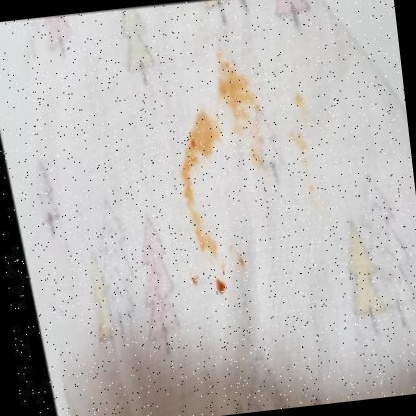kimchi: (159, 161, 221, 259), (212, 55, 268, 141), (171, 108, 218, 161), (288, 128, 321, 194), (211, 278, 237, 306), (246, 143, 267, 173), (185, 273, 204, 295), (234, 253, 250, 270), (294, 93, 304, 109)
